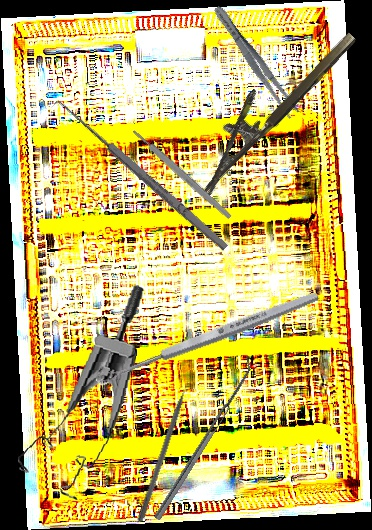Dressing Forceps: (209, 2, 302, 121)
Hook Surgical: (47, 95, 231, 259)
Needle Holder: (174, 11, 359, 201)
Pusher: (136, 371, 196, 523)
Scalpel Handle: (131, 127, 233, 221)
Spatula Surgical: (147, 355, 259, 521)
Speculum: (13, 273, 146, 506)
Surgical Spoon: (93, 288, 322, 388)
